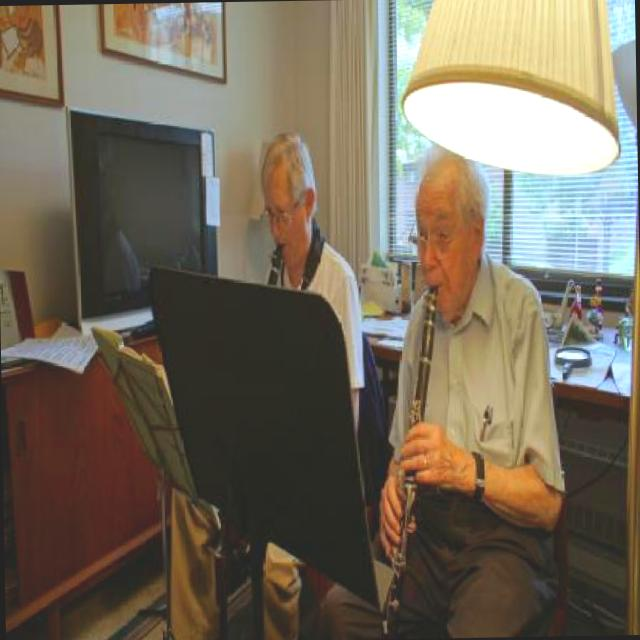Person: (161, 121, 374, 640), (374, 160, 567, 638)
